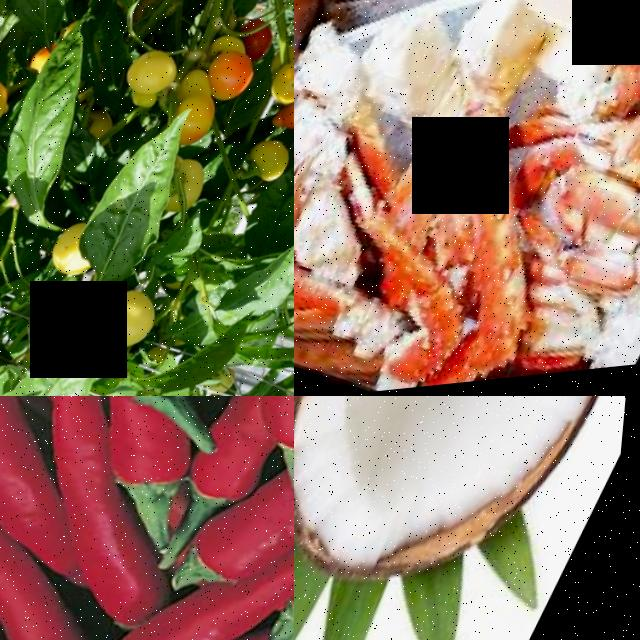chilli: (173, 401, 294, 544), (0, 396, 239, 448)
coconut: (294, 396, 640, 640), (294, 396, 375, 640)
crab: (294, 16, 627, 396)
